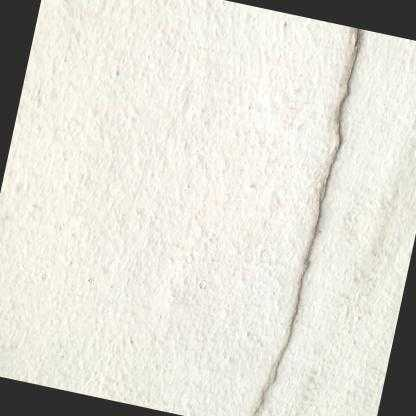crack: (251, 26, 358, 416)
